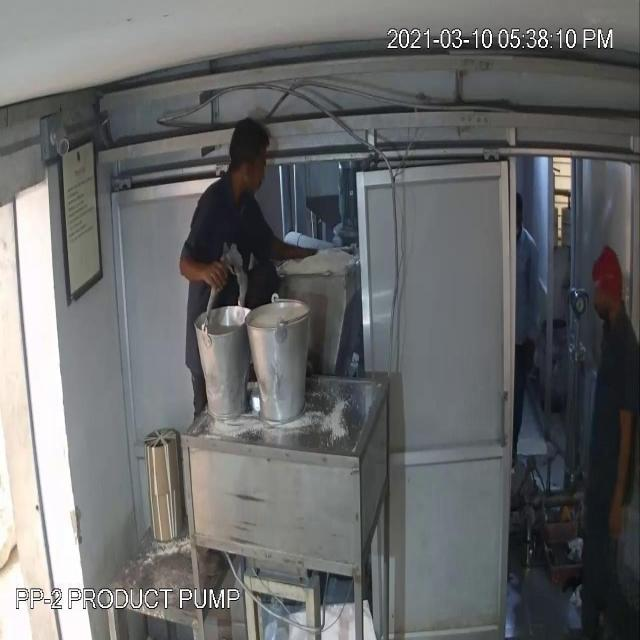No_Gloves: (172, 244, 230, 304)
